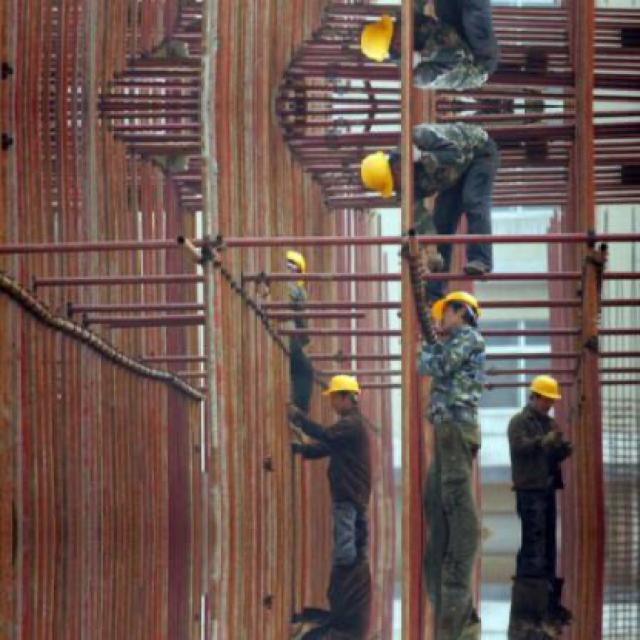helmet: (428, 285, 489, 338), (357, 148, 397, 201), (357, 12, 397, 65), (325, 372, 363, 418), (276, 248, 312, 293), (524, 373, 562, 415)
